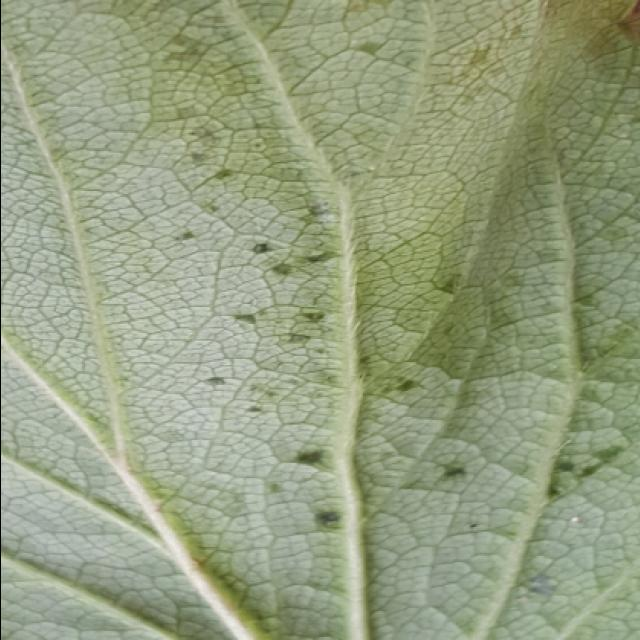Angular Leafspot: (145, 13, 640, 552)
